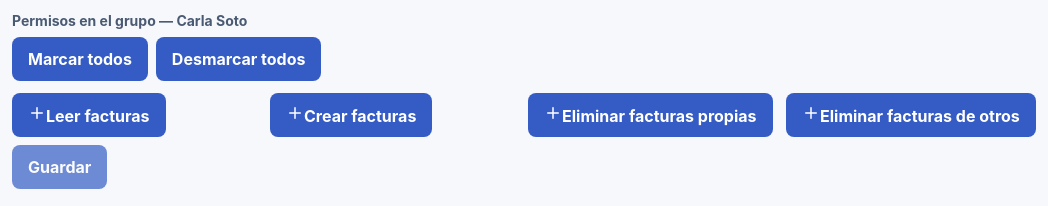
MemberPermissionsEditor, saved mode › uses the group endpoint at group level
This screenshot has width=1048, height=206.
Step 1. Click the button "Leer facturas" → (89, 115), box [12,93,166,137]
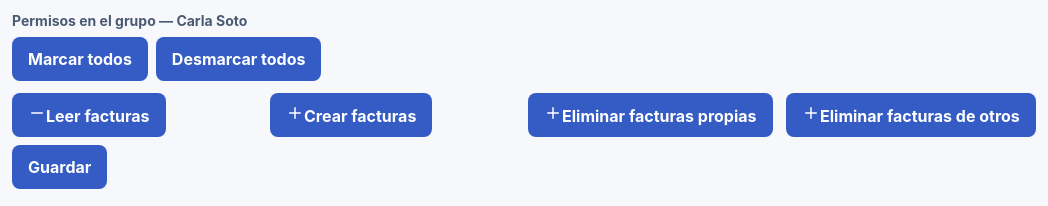
Step 2. Click the button with aria-label "Guardar permisos de Carla Soto" → (60, 167), box [12,145,107,189]
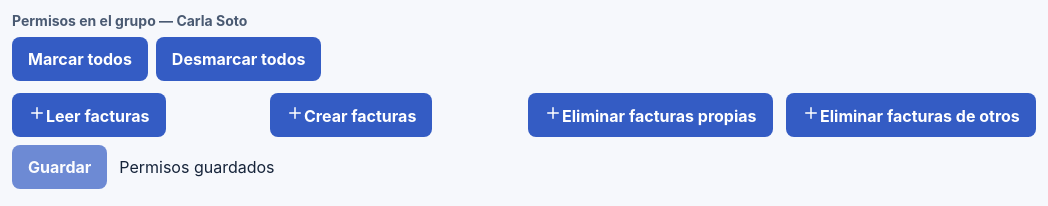
Now the text "Permisos guardados" is shown, box [119,157,275,177]
